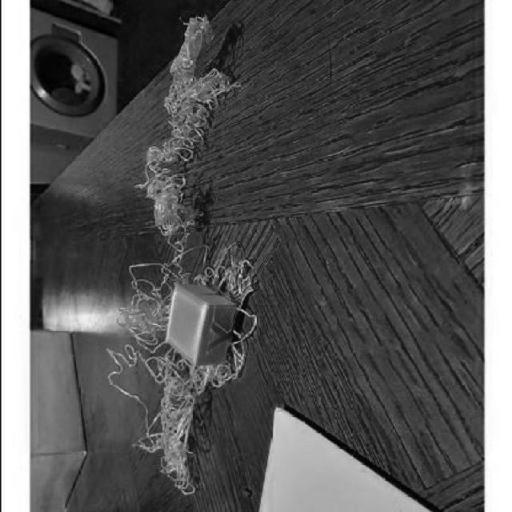spaghetti_and_stringing: (129, 11, 243, 238), (102, 235, 262, 393), (127, 390, 198, 499)
